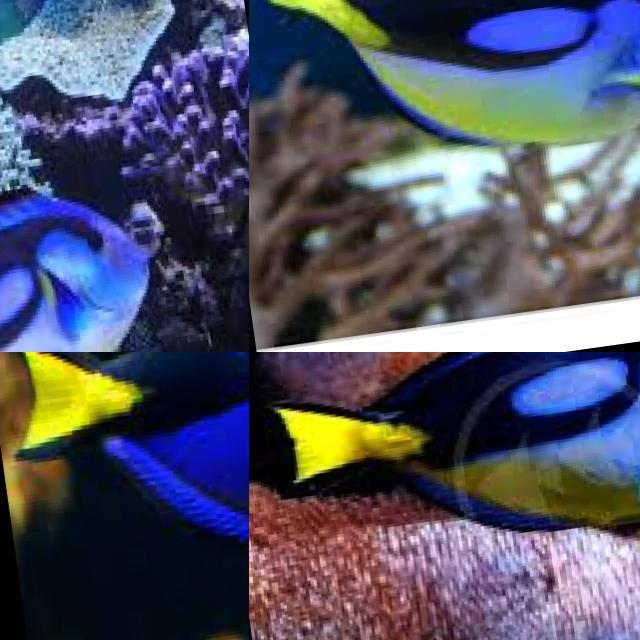BlueTang: (249, 352, 640, 621), (249, 0, 640, 210), (0, 352, 249, 610), (0, 139, 223, 352)
